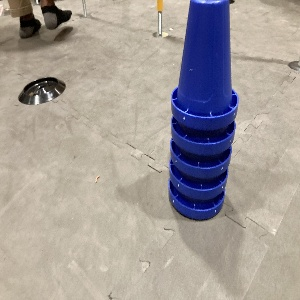Blue_5: (168, 1, 239, 218)
